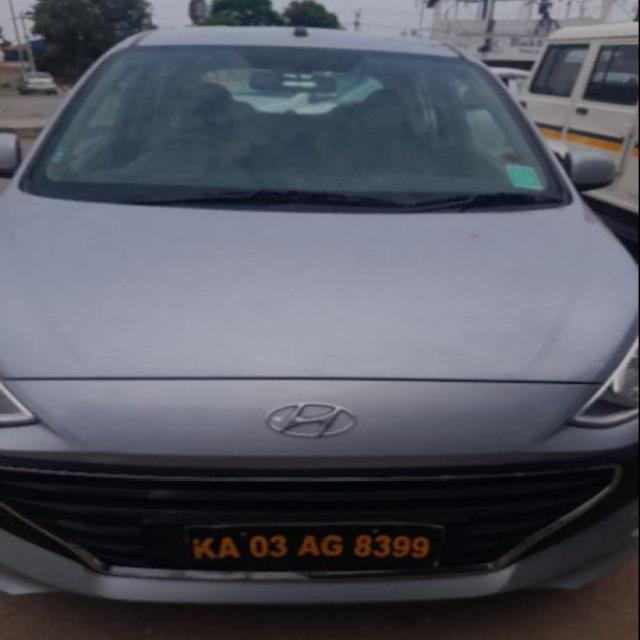license_plate: (177, 519, 446, 573)
